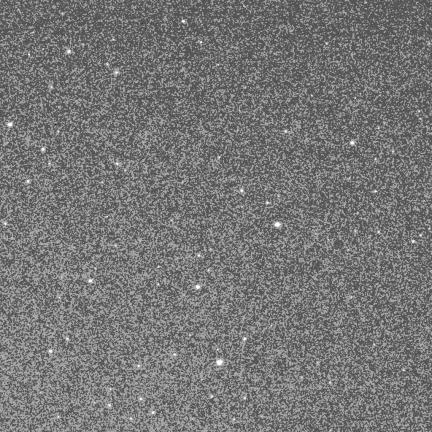blob: (8, 122, 13, 127), (275, 222, 280, 227), (196, 285, 200, 289), (284, 130, 288, 134), (350, 141, 354, 145), (266, 201, 270, 205), (49, 350, 53, 354), (412, 240, 416, 244), (115, 71, 119, 75), (41, 147, 45, 151), (89, 279, 93, 283), (66, 338, 70, 341), (152, 411, 155, 415), (198, 254, 201, 258), (4, 222, 7, 226), (116, 162, 119, 166), (173, 354, 177, 357), (27, 180, 30, 184), (182, 20, 185, 23), (68, 50, 71, 53), (200, 41, 203, 44), (138, 365, 141, 368), (108, 405, 111, 408), (140, 398, 143, 401), (241, 189, 243, 192), (243, 338, 246, 340)
